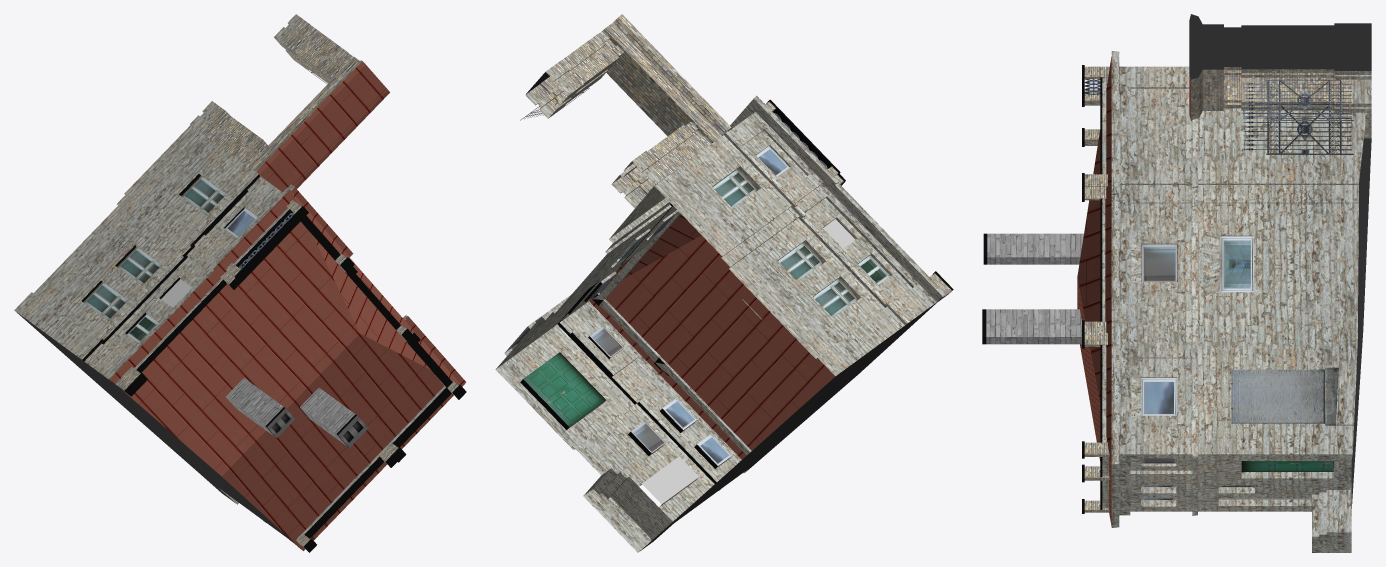
File: Kohtu_6_2.obj
3 renders of one model, left to right at view 1: azimuth 30°, elevation 25°; view 2: azimuth 150°, elevation 25°; view 3: azimuth 270°, elevation 25°, orthographic. The views are drawn at different scales.
Parts seen in each view (by area): view 1: Kohtu_6_2; view 2: Kohtu_6_2; view 3: Kohtu_6_2.
Part boxes in pixels (x1,y1,x2,y2): Kohtu_6_2: [14, 14, 466, 552]; Kohtu_6_2: [495, 14, 953, 552]; Kohtu_6_2: [982, 14, 1371, 552].
Size of the model in its own units: 14.7 by 18.06 by 10.85.
